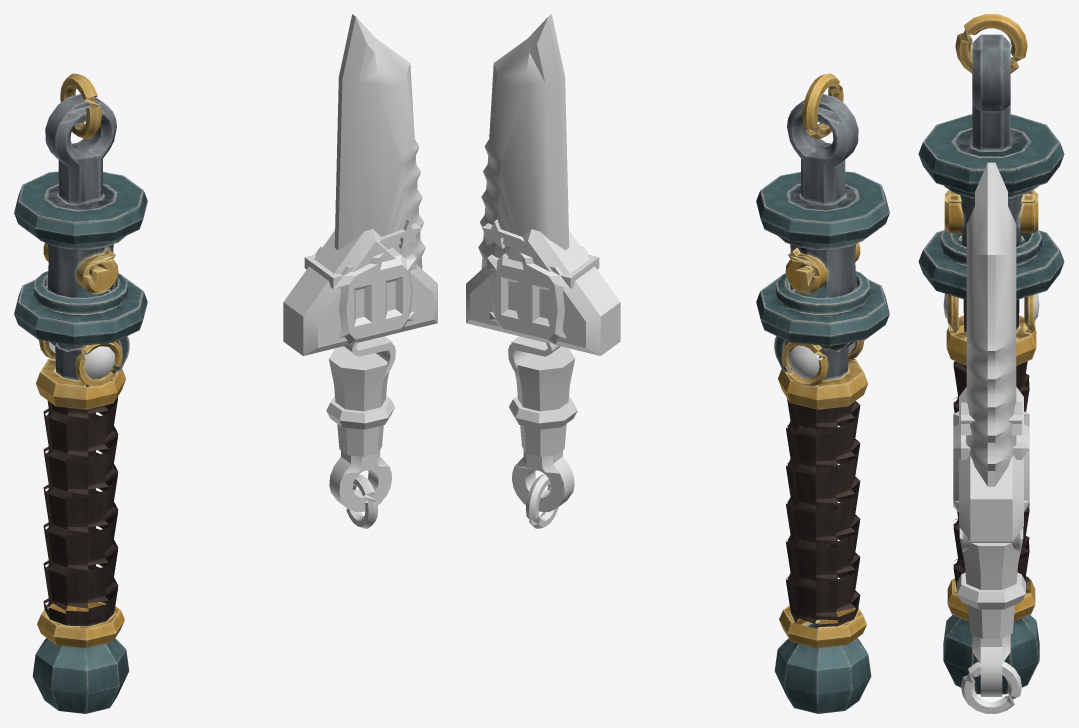
Rendered from Flintlash.fbx.
3 renders of one model, left to right at view 1: azimuth 30°, elevation 25°; view 2: azimuth 150°, elevation 25°; view 3: azimuth 270°, elevation 25°, orthographic. The views are drawn at different scales.
Parts seen in each view (by area): view 1: Flintlash_Body, HeadBlade, HeadLanget, HeadMotif, HeadFerrule, TailLug, HeadBand, TailRing, HeadGuard, Flintlash_Glow; view 2: Flintlash_Body, HeadBlade, HeadLanget, HeadMotif, HeadFerrule, TailLug, HeadBand, TailRing, HeadGuard, Flintlash_Glow; view 3: Flintlash_Body, HeadBlade, HeadLanget, HeadFerrule, HeadMotif, TailLug, TailRing, HeadBand, HeadGuard.
Part boxes in pixels (<box>): Flintlash_Body: <box>14,73,147,713</box>; HeadBlade: <box>334,14,425,268</box>; HeadLanget: <box>283,229,437,355</box>; HeadMotif: <box>304,219,421,344</box>; HeadFerrule: <box>328,346,389,456</box>; TailLug: <box>329,450,391,511</box>; HeadBand: <box>326,396,394,429</box>; TailRing: <box>346,474,378,528</box>; HeadGuard: <box>343,336,395,380</box>; Flintlash_Glow: <box>48,342,114,378</box>; Flintlash_Body: <box>756,73,889,713</box>; HeadBlade: <box>478,14,569,268</box>; HeadLanget: <box>466,229,620,355</box>; HeadMotif: <box>482,219,599,344</box>; HeadFerrule: <box>514,346,575,456</box>; TailLug: <box>512,450,574,511</box>; HeadBand: <box>509,396,577,429</box>; TailRing: <box>525,474,558,528</box>; HeadGuard: <box>508,336,560,380</box>; Flintlash_Glow: <box>789,342,855,378</box>; Flintlash_Body: <box>918,14,1064,694</box>; HeadBlade: <box>966,162,1016,486</box>; HeadLanget: <box>959,387,1023,541</box>; HeadFerrule: <box>959,528,1023,638</box>; HeadMotif: <box>953,402,1029,512</box>; TailLug: <box>972,634,1010,696</box>; TailRing: <box>961,662,1021,713</box>; HeadBand: <box>957,572,1025,609</box>; HeadGuard: <box>962,532,1020,551</box>.
Bounding box in the file's own units: 1.3 × 1.95 × 0.381.
